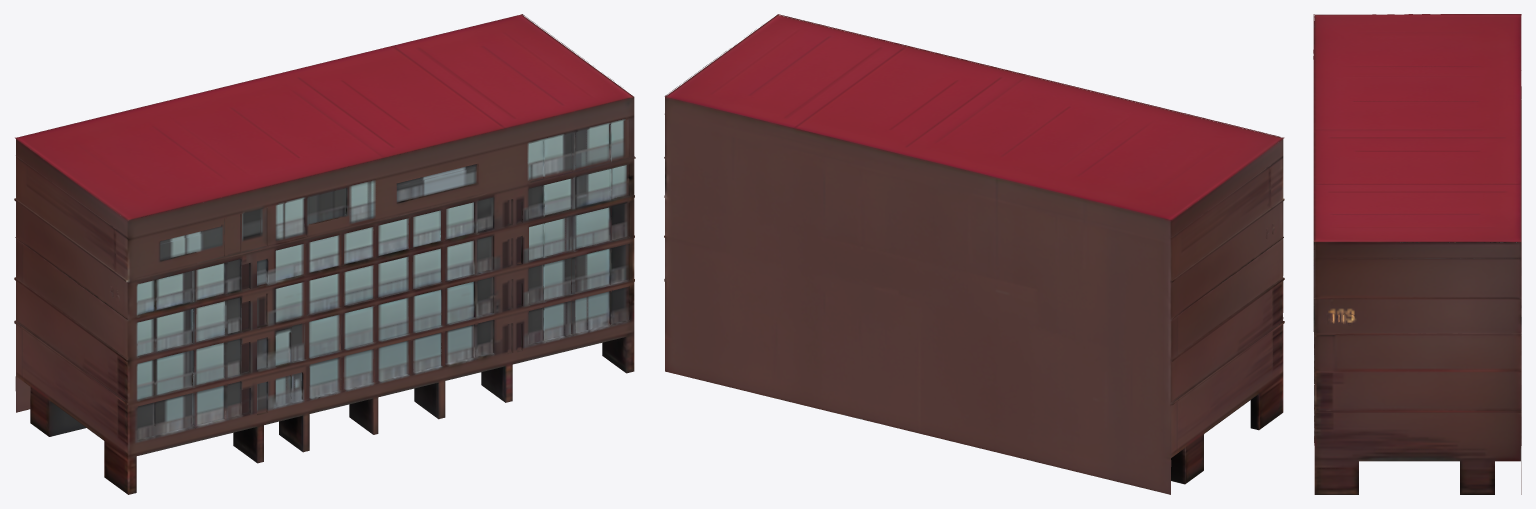
The model's file is base_basic_shaded.fbx.
The picture shows the model from 3 angles, left to right: view 1: azimuth 30°, elevation 25°; view 2: azimuth 150°, elevation 25°; view 3: azimuth 270°, elevation 25°; orthographic projection. The views are drawn at different scales.
Parts seen in each view (by area): view 1: model; view 2: model; view 3: model.
Boxes of the visible parts, x1,y1,x2,y2 form: model: (14, 14, 635, 494); model: (664, 14, 1284, 494); model: (1313, 14, 1521, 494).
Size of the model in its own units: 189 by 97.38 by 72.51.
